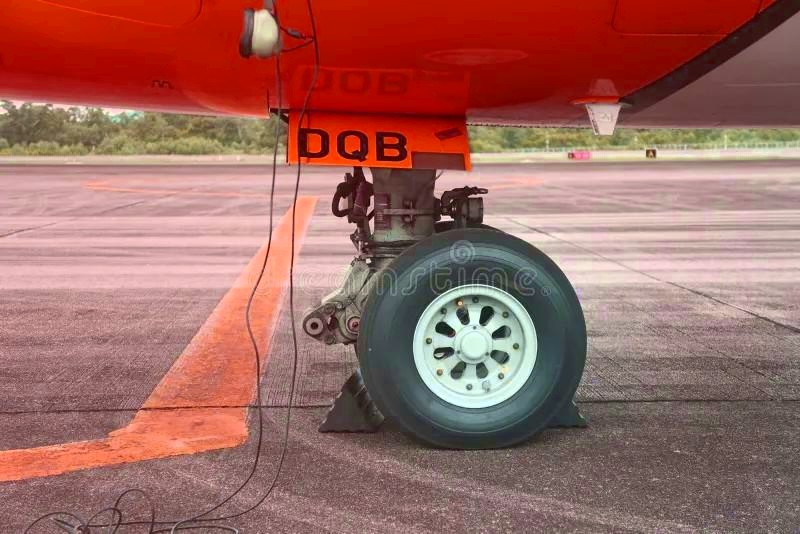chock: (318, 368, 384, 433)
wheel: (351, 224, 584, 448)
